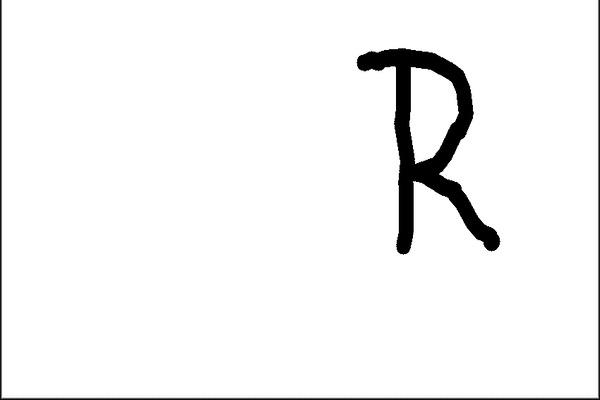R: (348, 43, 514, 266)
